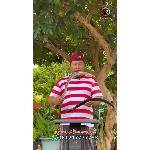Celurit: (50, 69, 116, 114)
